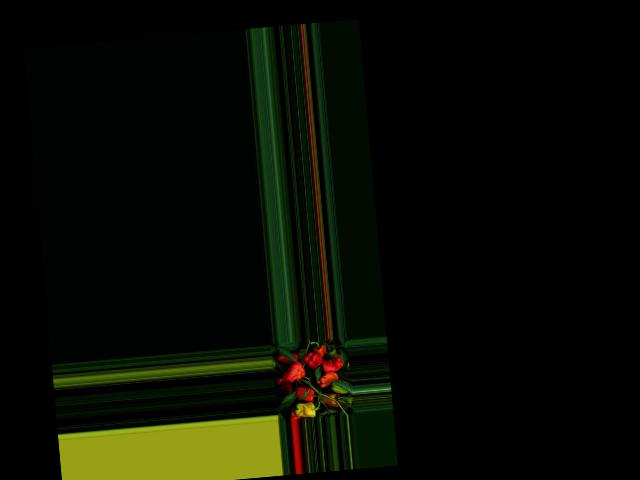bell_pepper: (315, 342, 327, 356)
